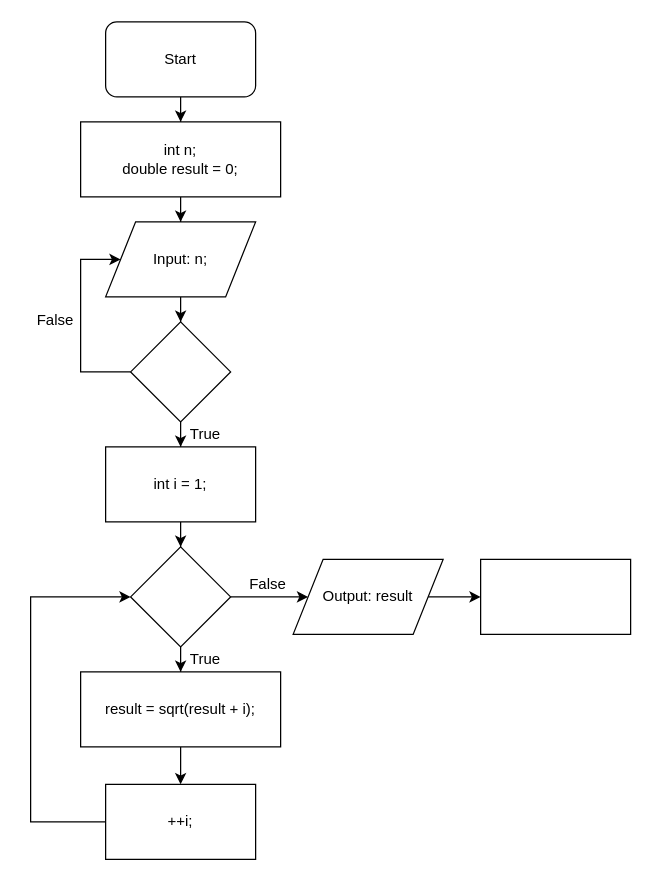
The diagram is 653 pixels wide and 881 high, and some of its shapes have lost their labels. The box of each missing label's shape, as (x1, y1, x2, y2) in pixels:
End: (479, 558, 631, 634)
i <= n: (129, 546, 231, 647)
n > 0: (129, 321, 231, 422)
